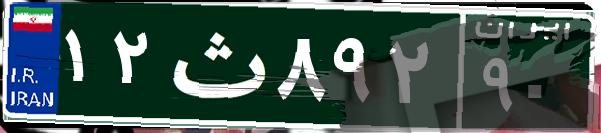0: (525, 38, 570, 115)
1: (57, 26, 110, 107)
2: (385, 28, 445, 110), (110, 28, 158, 105)
8: (273, 28, 330, 110)
9: (330, 28, 385, 110), (475, 38, 525, 113)
ث: (158, 15, 273, 115)
